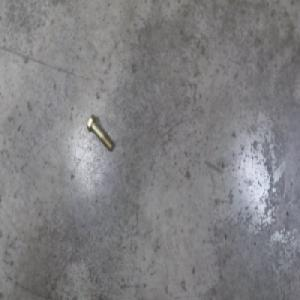Bolt: (85, 114, 112, 153)
